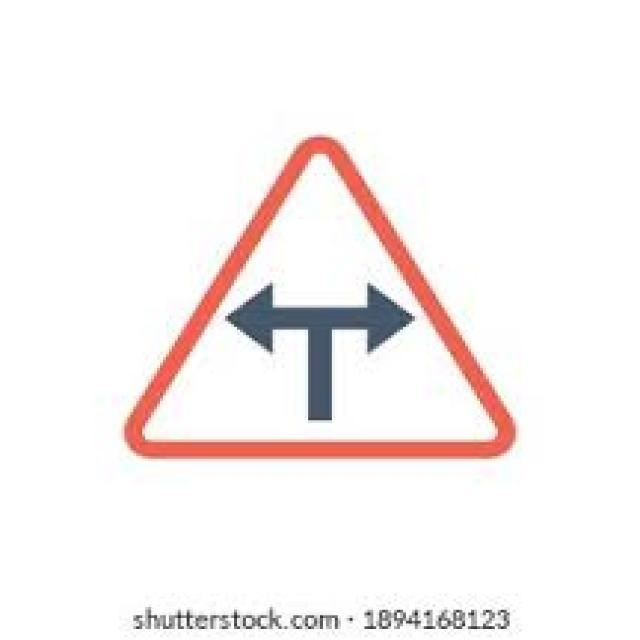t intersection: (119, 137, 513, 460)
